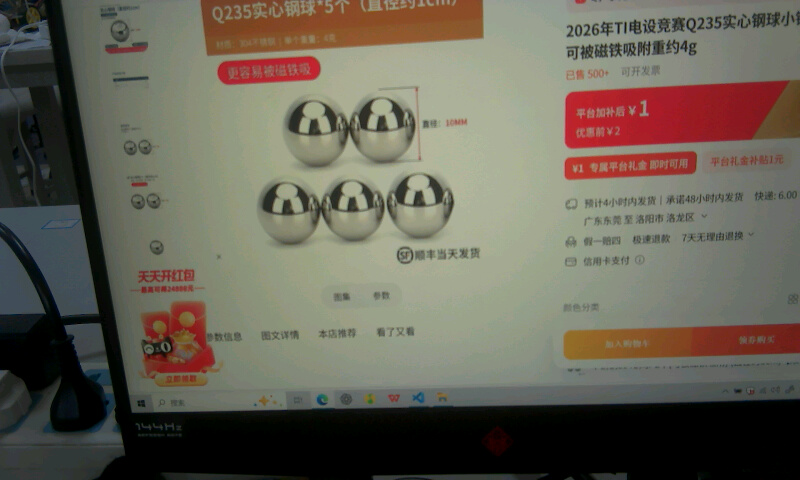ball: (284, 94, 347, 170), (387, 170, 457, 238), (351, 95, 422, 161), (322, 179, 386, 243), (259, 176, 320, 241), (108, 17, 126, 48), (147, 190, 162, 213), (124, 138, 141, 157), (146, 238, 166, 253), (138, 138, 152, 158), (129, 194, 144, 212)
